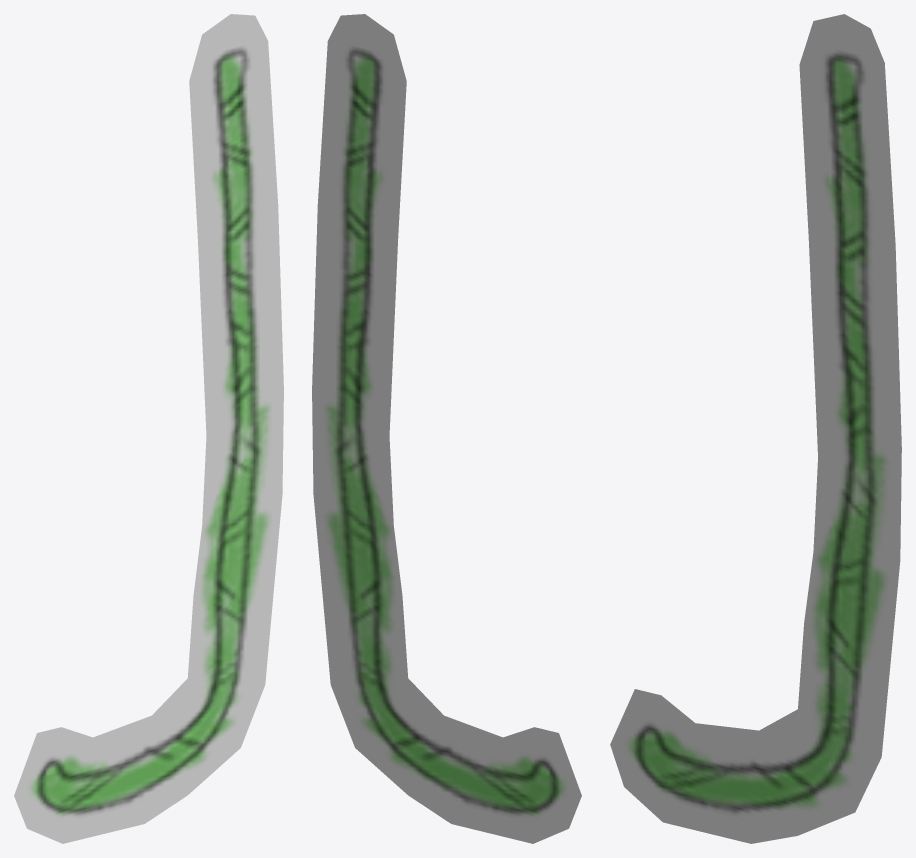
File: Lian1.fbx
3 renders of one model, left to right at view 1: azimuth 30°, elevation 25°; view 2: azimuth 150°, elevation 25°; view 3: azimuth 330°, elevation 25°, orthographic. The views are drawn at different scales.
Visible parts, largest first — view 1: Lian1; view 2: Lian1; view 3: Lian1.
Boxes of the visible parts, box(x1,y1,x2,y2) form: Lian1: box(14, 14, 283, 843); Lian1: box(312, 14, 581, 843); Lian1: box(610, 14, 901, 843).
Size of the model in its own units: 11.14 by 31.11 by 5.07e-06.
